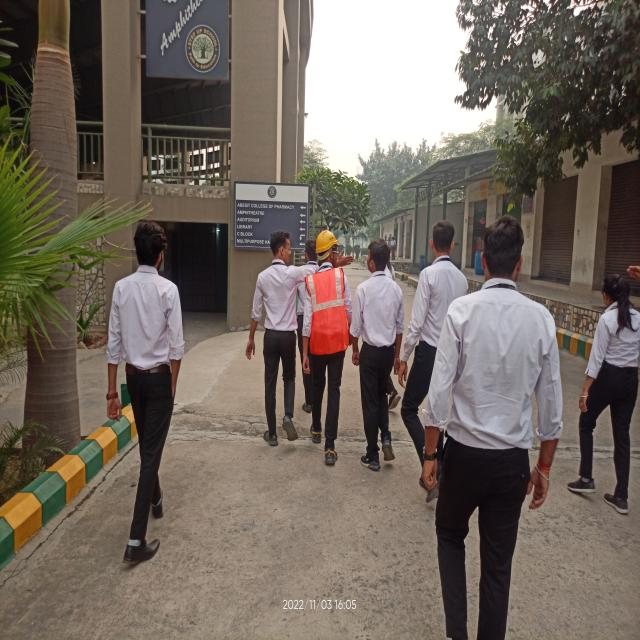safe: (305, 226, 352, 465)
unsafe: (434, 218, 560, 623), (101, 217, 182, 570), (576, 271, 640, 519), (407, 222, 464, 480), (250, 228, 308, 448), (352, 242, 405, 474), (391, 236, 396, 261), (387, 238, 391, 247)
